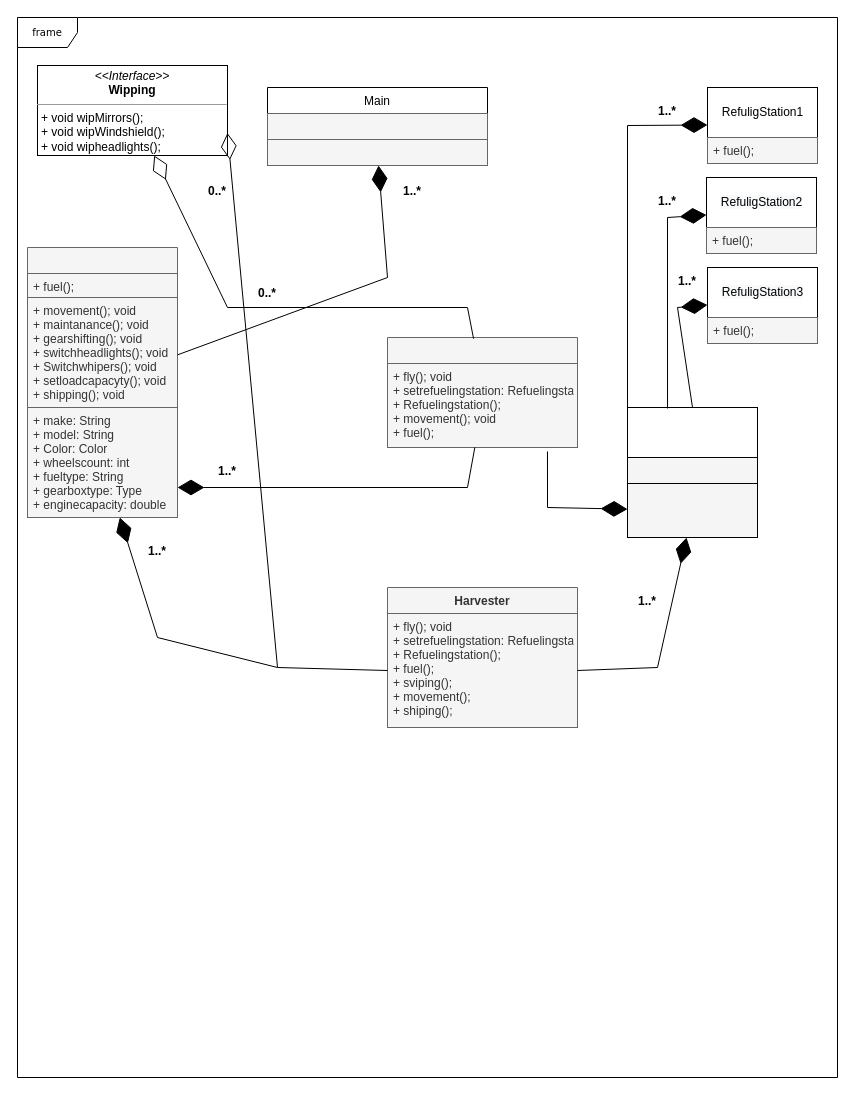
This 855x1095 diagram has some shape labels left out. Each missing label, with the box of its shape:
+ enum GearType(); + enum FuelType(); + enum CarType();: (626, 482, 758, 538)
+ fuel(FuelType type);: (626, 456, 758, 484)
+ void colculateMaintanance(Car car): (266, 138, 488, 166)
+ void movementCar(movement);: (266, 112, 488, 140)
Car: (26, 246, 178, 518)
Supercar: (386, 336, 578, 448)
«interface» Refueling: (626, 406, 758, 458)
